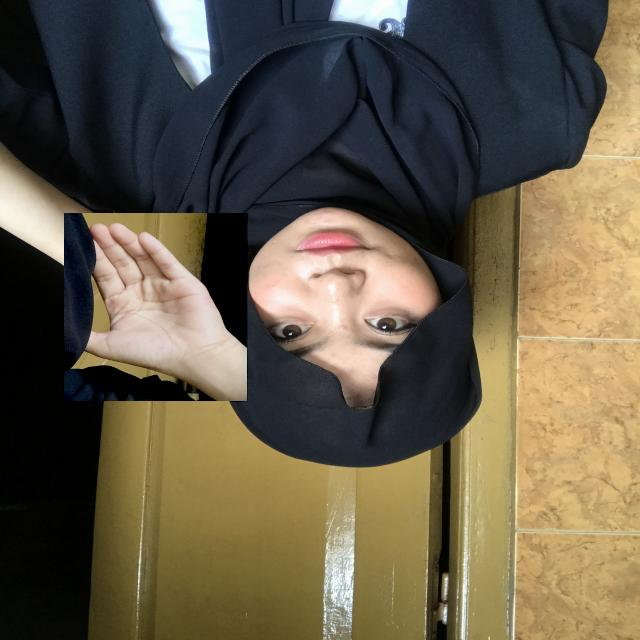mendengar: (64, 213, 248, 402)
